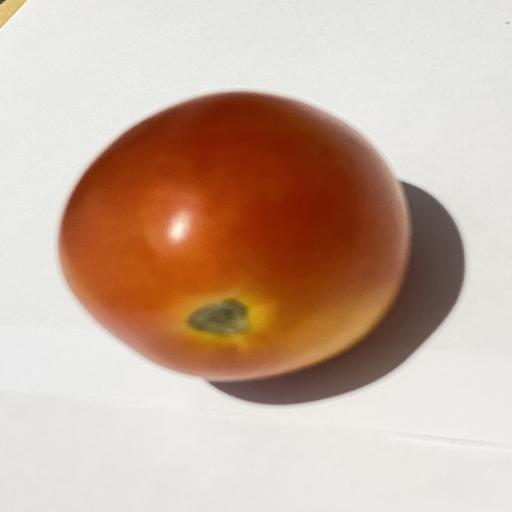ripe: (59, 92, 410, 381)
